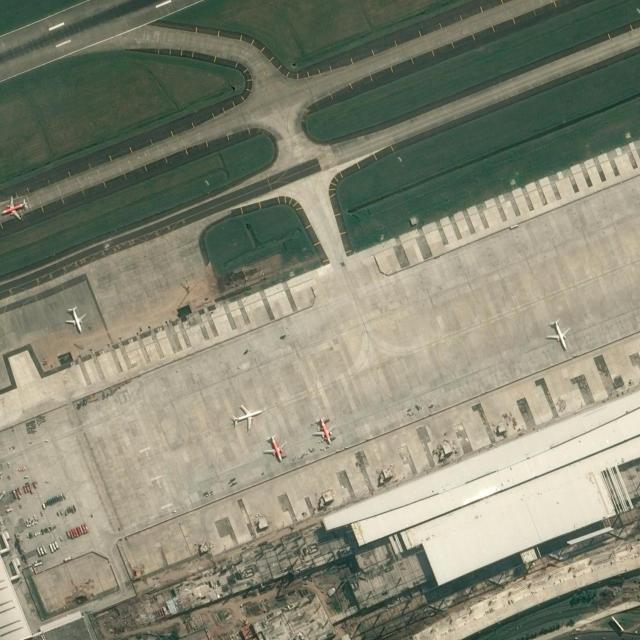Aircraft: (545, 320, 571, 352), (231, 403, 263, 428), (312, 417, 336, 446), (262, 435, 286, 463), (63, 305, 87, 333), (1, 194, 28, 218)
